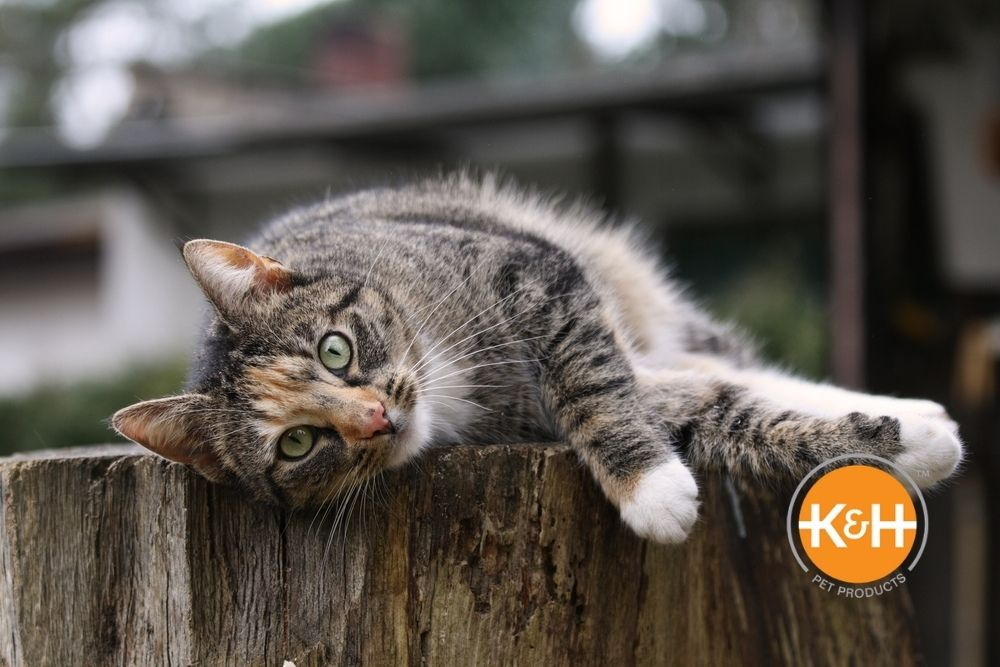Cat: (96, 159, 742, 560)
